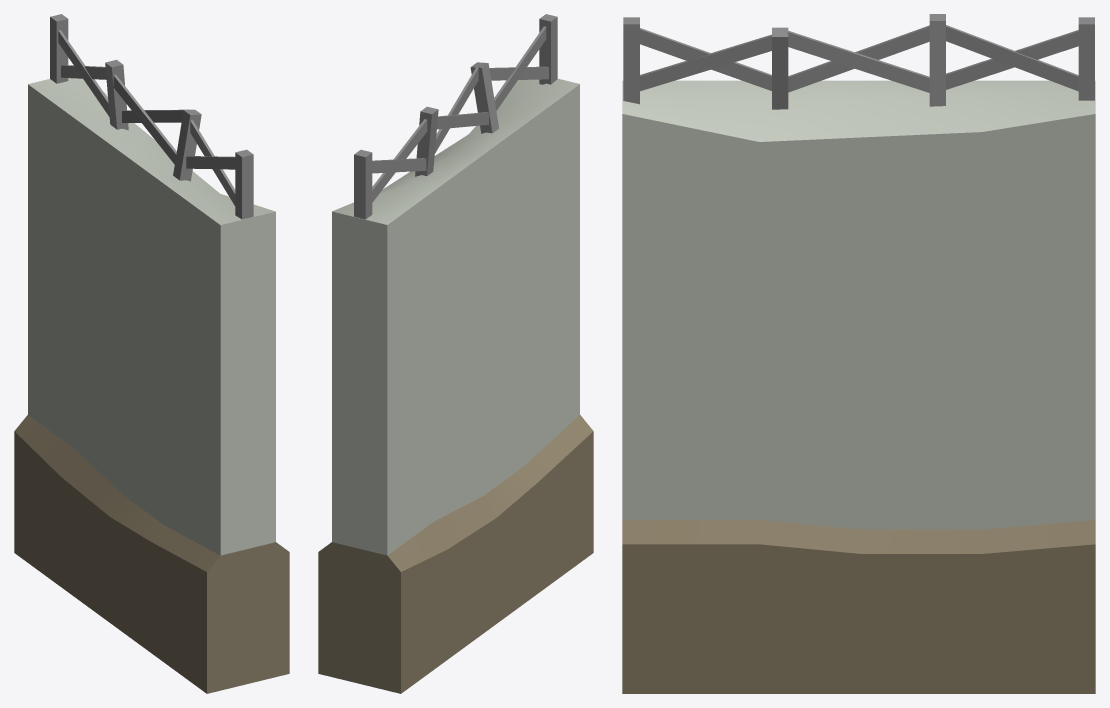
Rendered from SM_wall_perimeter_B.fbx.
3 renders of one model, left to right at view 1: azimuth 30°, elevation 25°; view 2: azimuth 150°, elevation 25°; view 3: azimuth 270°, elevation 25°, orthographic. The views are drawn at different scales.
Parts seen in each view (by area): view 1: pCube80; view 2: pCube80; view 3: pCube80.
Boxes of the visible parts, bbox=[...] form: pCube80: bbox=[14, 14, 289, 693]; pCube80: bbox=[318, 14, 593, 693]; pCube80: bbox=[622, 14, 1095, 693].
Size of the model in its own units: 74.29 by 453 by 300.
